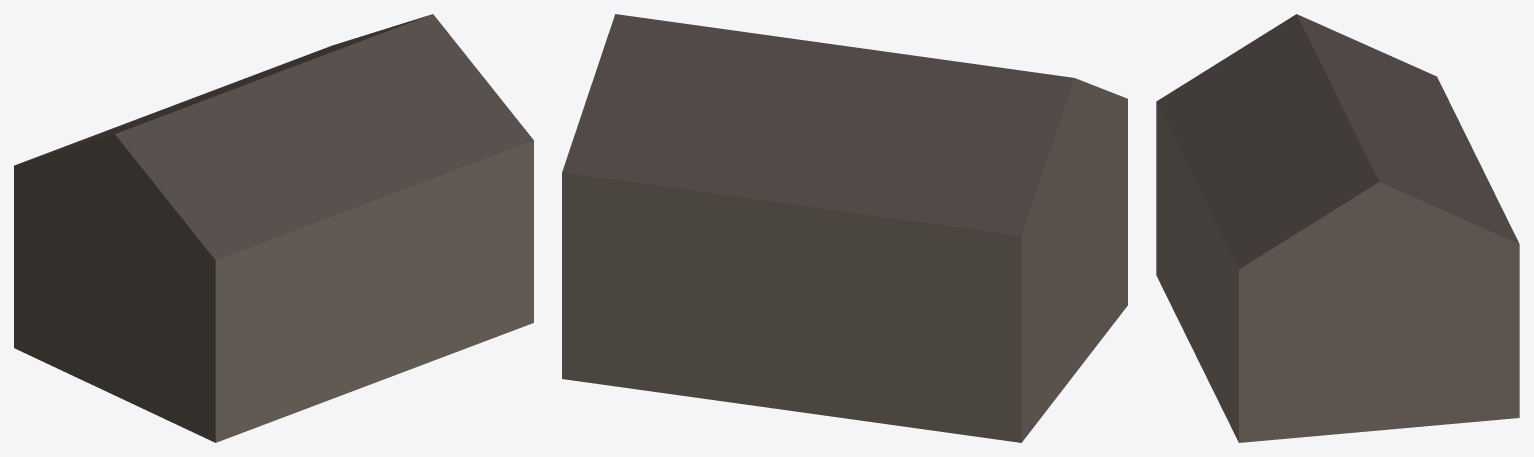
3 views of the same model, side by side, from view 1: azimuth 30°, elevation 25°; view 2: azimuth 150°, elevation 25°; view 3: azimuth 270°, elevation 25° (orthographic). The views are drawn at different scales.
Visible parts, largest first — view 1: HP-w389701935; view 2: HP-w389701935; view 3: HP-w389701935.
Part boxes in pixels (x1,y1,x2,y2): HP-w389701935: (14, 14, 533, 442); HP-w389701935: (562, 14, 1127, 442); HP-w389701935: (1156, 14, 1519, 442).
Size of the model in its own units: 14.31 by 8.6 by 11.4.
